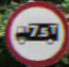Heavy Vehicles: (5, 3, 65, 59)
